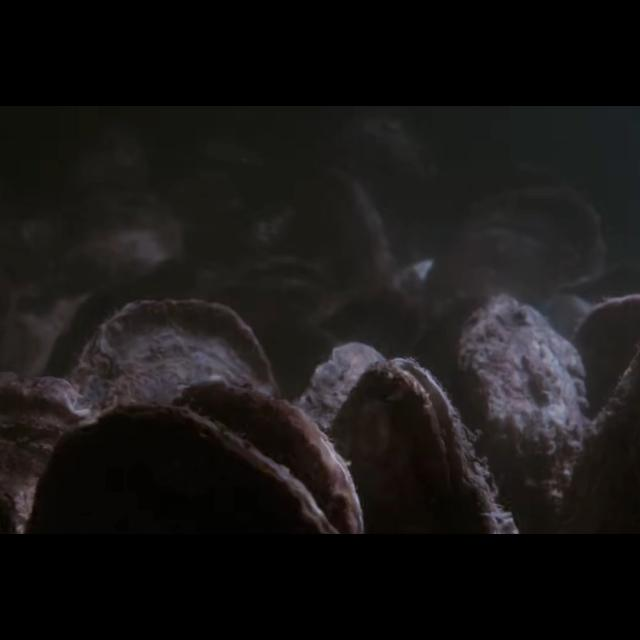Oyster-Closed: (68, 300, 280, 534), (28, 402, 336, 534), (451, 292, 591, 534), (172, 379, 364, 535), (418, 185, 608, 328), (296, 342, 388, 534), (0, 370, 100, 534), (289, 162, 396, 304), (58, 204, 185, 290), (572, 294, 640, 446)
Oyster-Open: (327, 358, 516, 534), (222, 253, 340, 323)
